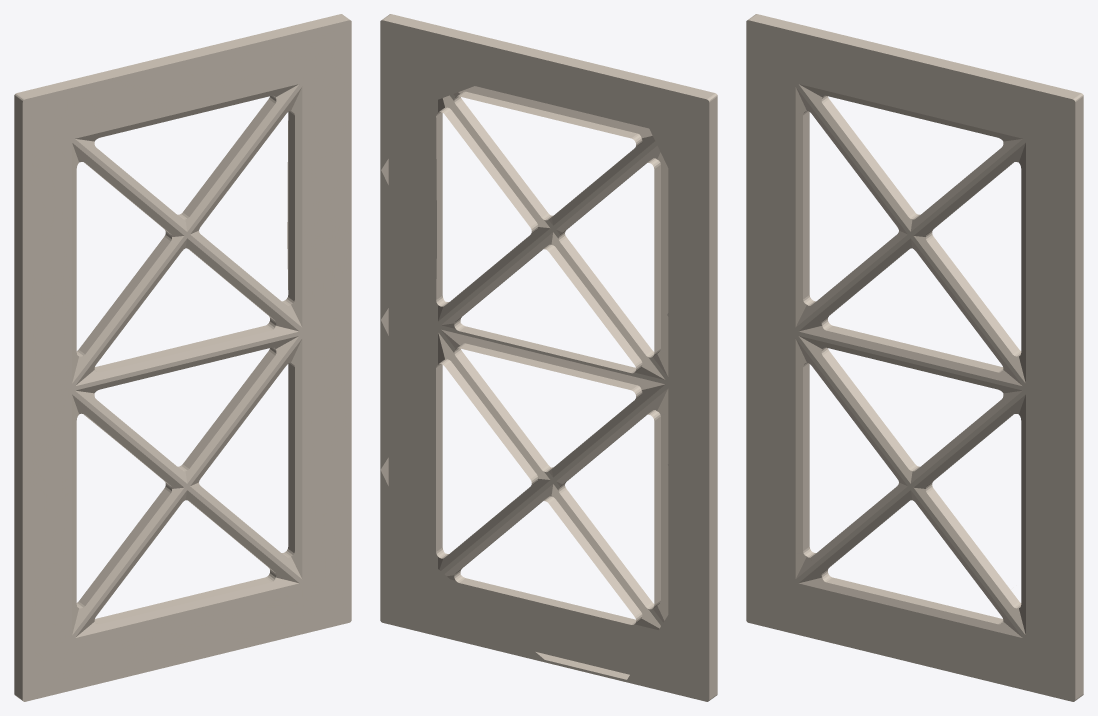
Rendered from NRD CAM 101.glb.
3 renders of one model, left to right at view 1: azimuth 30°, elevation 25°; view 2: azimuth 150°, elevation 25°; view 3: azimuth 330°, elevation 25°, orthographic.
Parts seen in each view (by area): view 1: NRD CAM 101; view 2: NRD CAM 101; view 3: NRD CAM 101.
Boxes of the visible parts, x1=… form: NRD CAM 101: x1=14, y1=14, x2=351, y2=701; NRD CAM 101: x1=380, y1=14, x2=717, y2=701; NRD CAM 101: x1=746, y1=14, x2=1083, y2=701.
Bounding box in the file's own units: 0.3999 × 0.6999 × 0.018.
